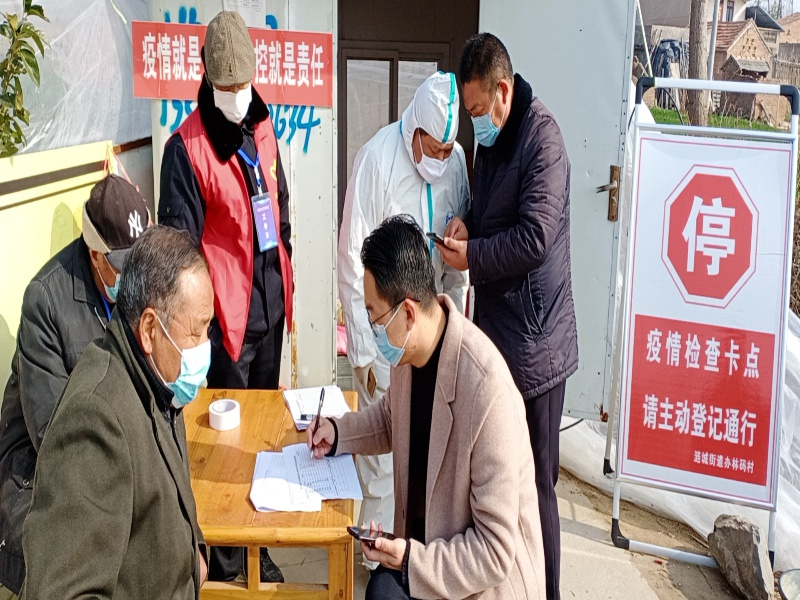ManaoArotava: (135, 241, 233, 430), (346, 234, 438, 378), (448, 33, 530, 167), (193, 12, 266, 134), (402, 73, 471, 201)
